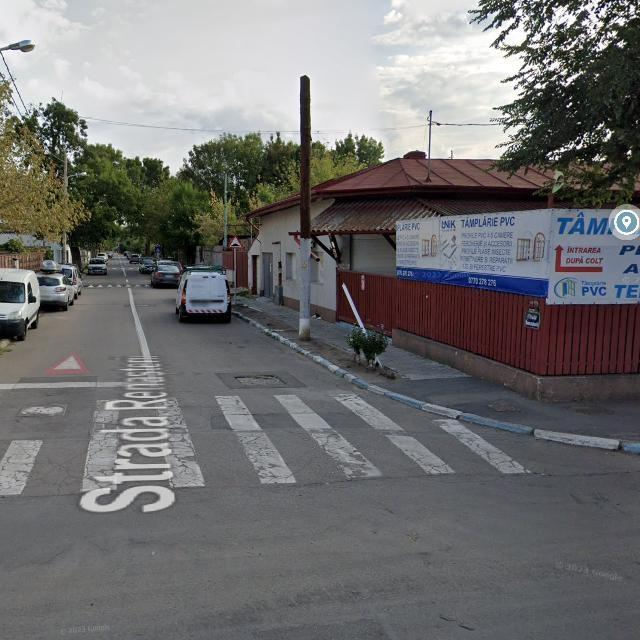prio_give_way: (42, 350, 90, 375)
